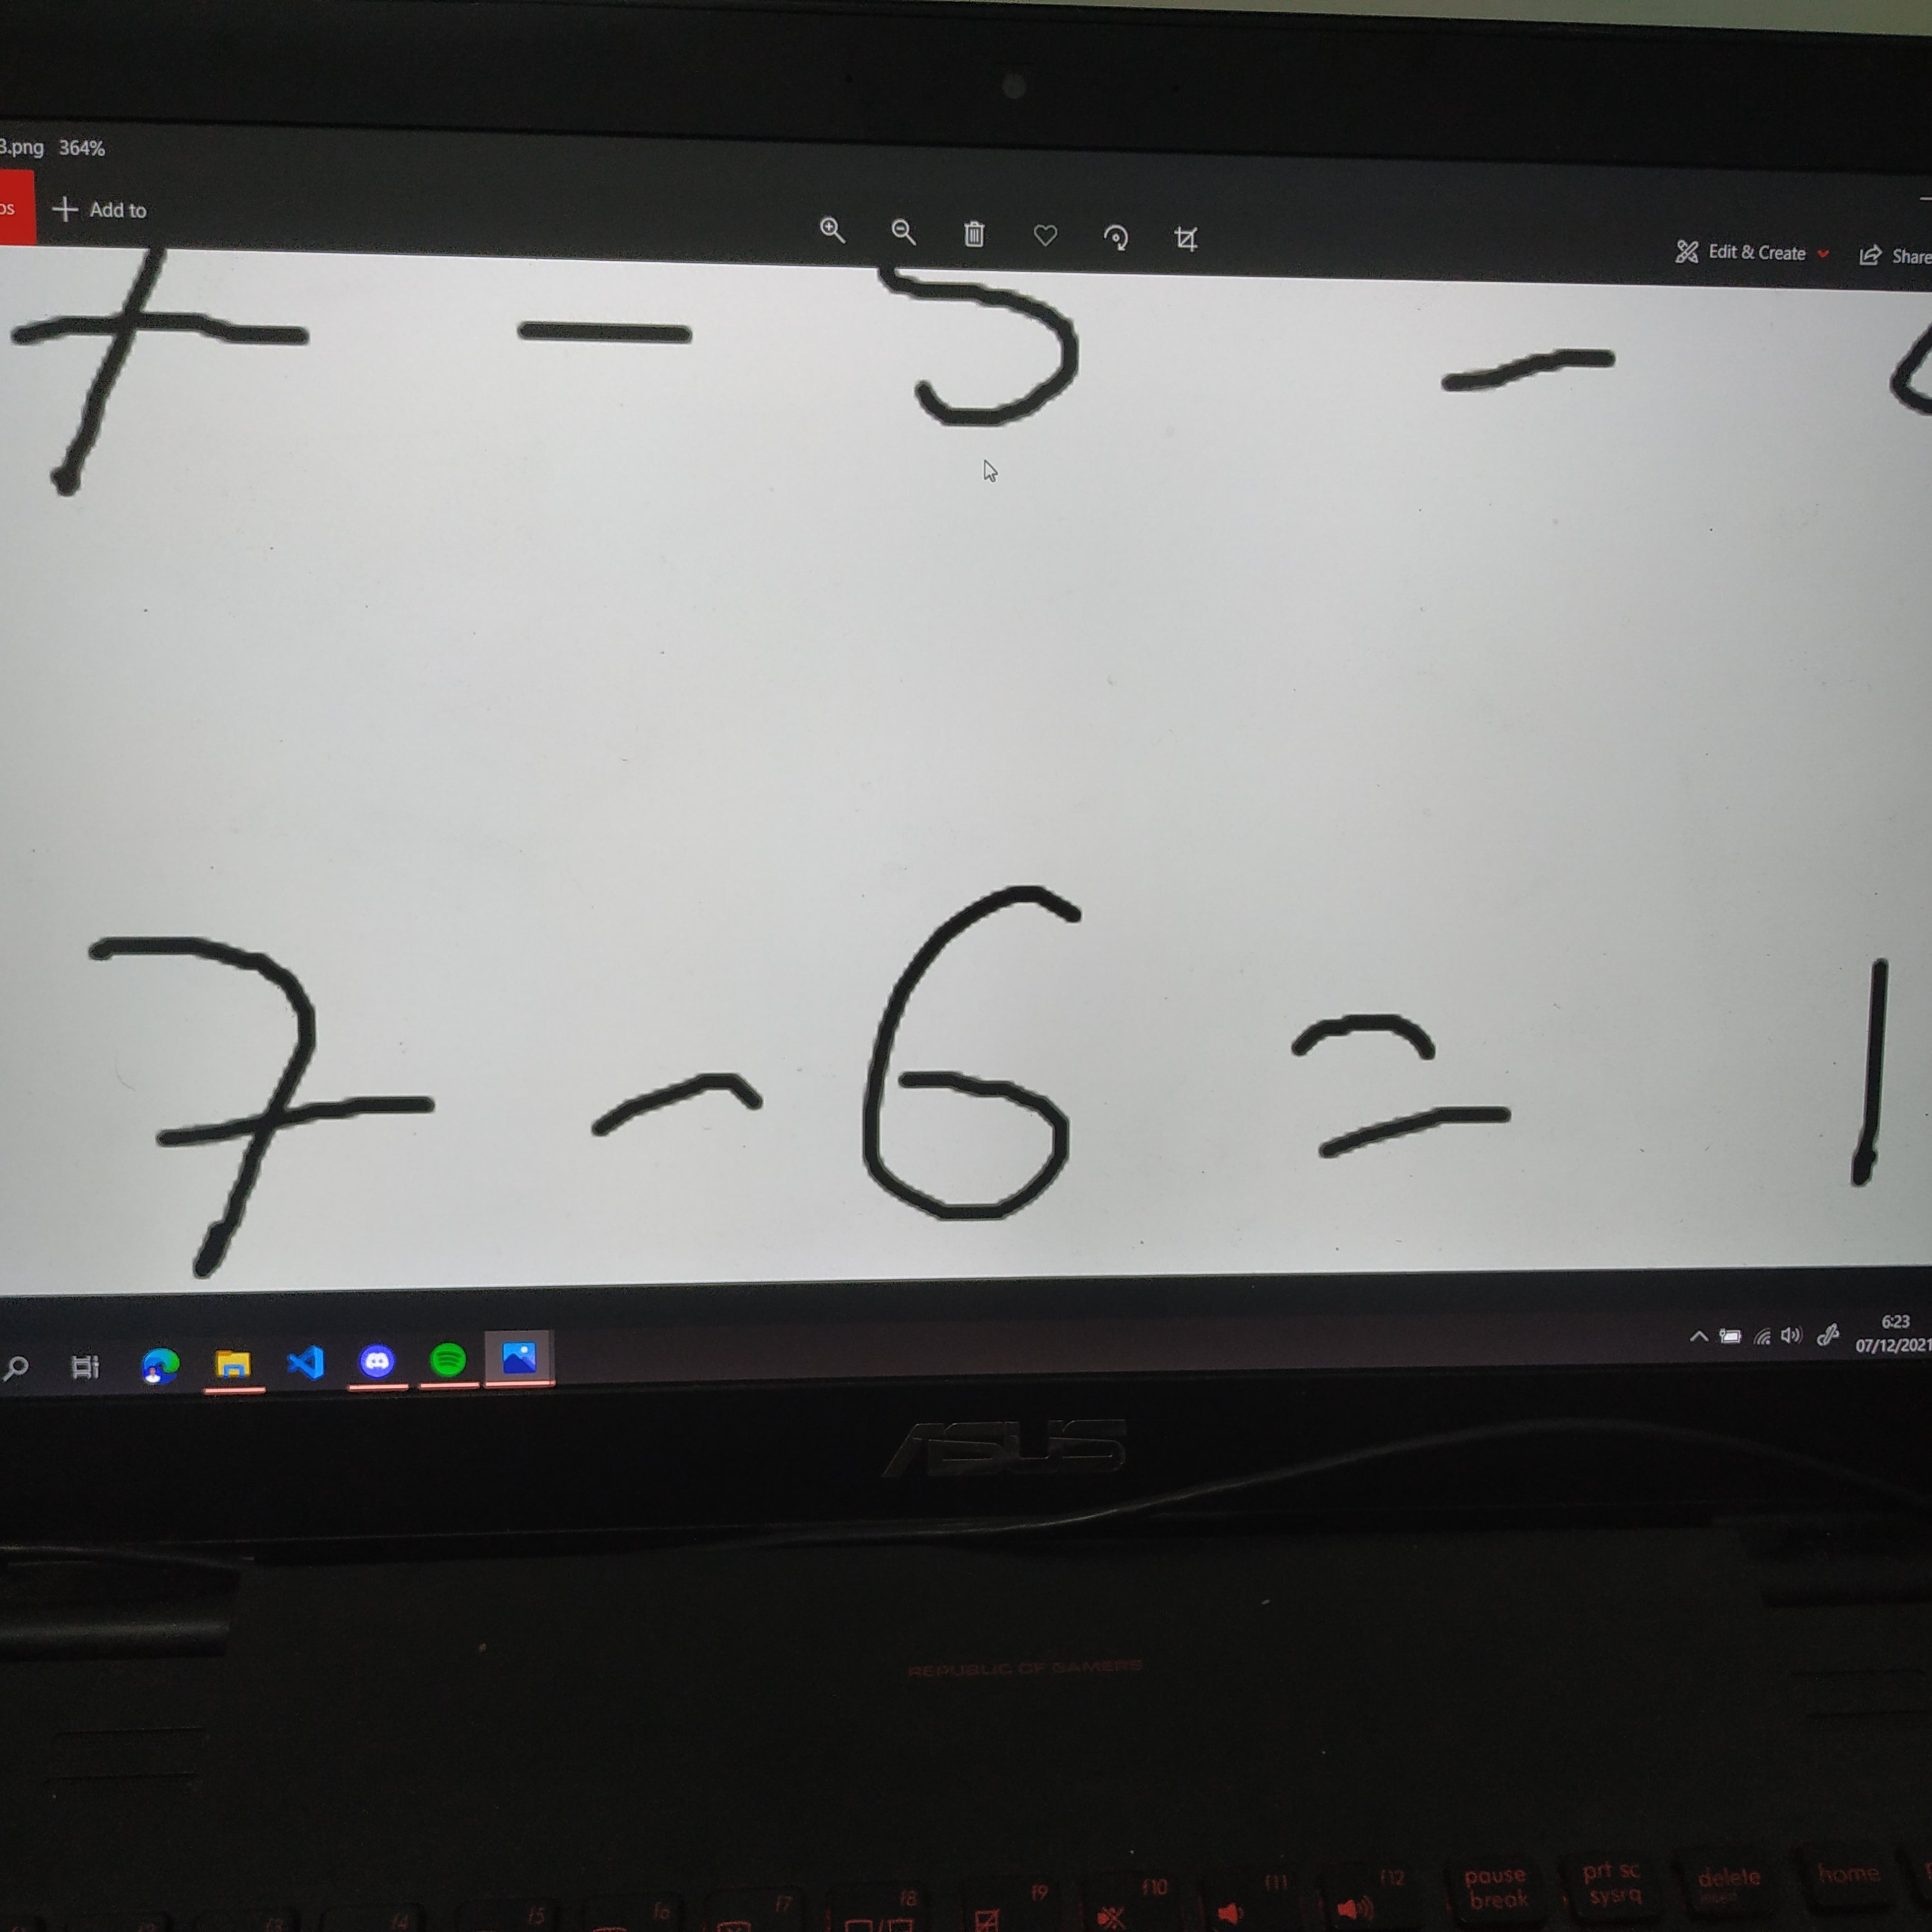equal: (1255, 993, 1587, 1182)
min: (551, 1053, 798, 1163)
num1: (1810, 939, 1924, 1227)
num6: (831, 848, 1126, 1244)
num7: (67, 902, 455, 1285)
